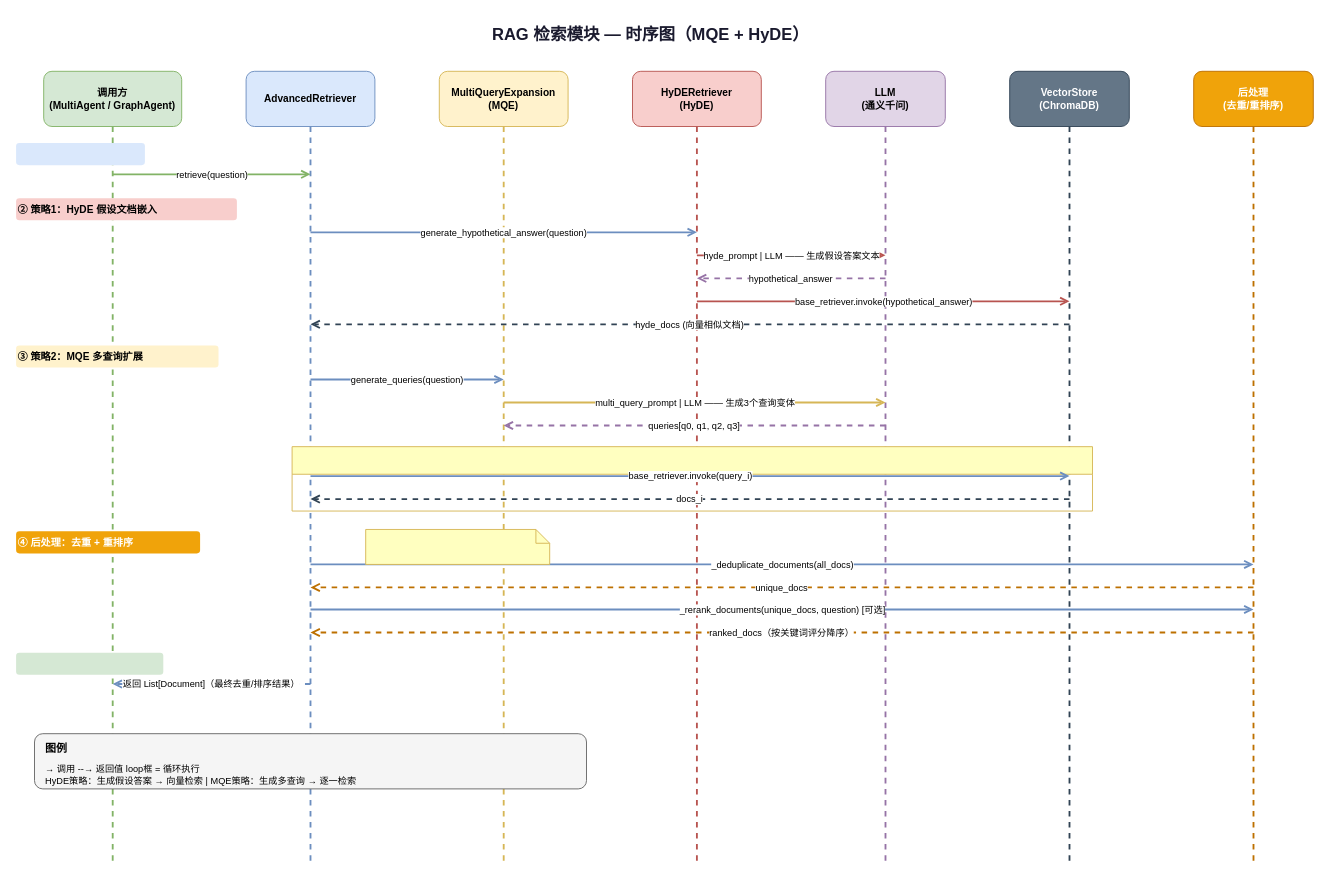
Image size: 1329x880. Some labels were removed from this diagram. The shapes that lost their labels are listed below. From the top down, each one's centre as x and y in pixels, then its label:
At (x=80, y=154): "① 发起检索请求".
At (x=691, y=478): "loop [ for each query in queries ]".
At (x=457, y=546): "HyDE文档 ∪ MQE文档 = all_docs".
At (x=89, y=663): "⑤ 返回检索结果".
